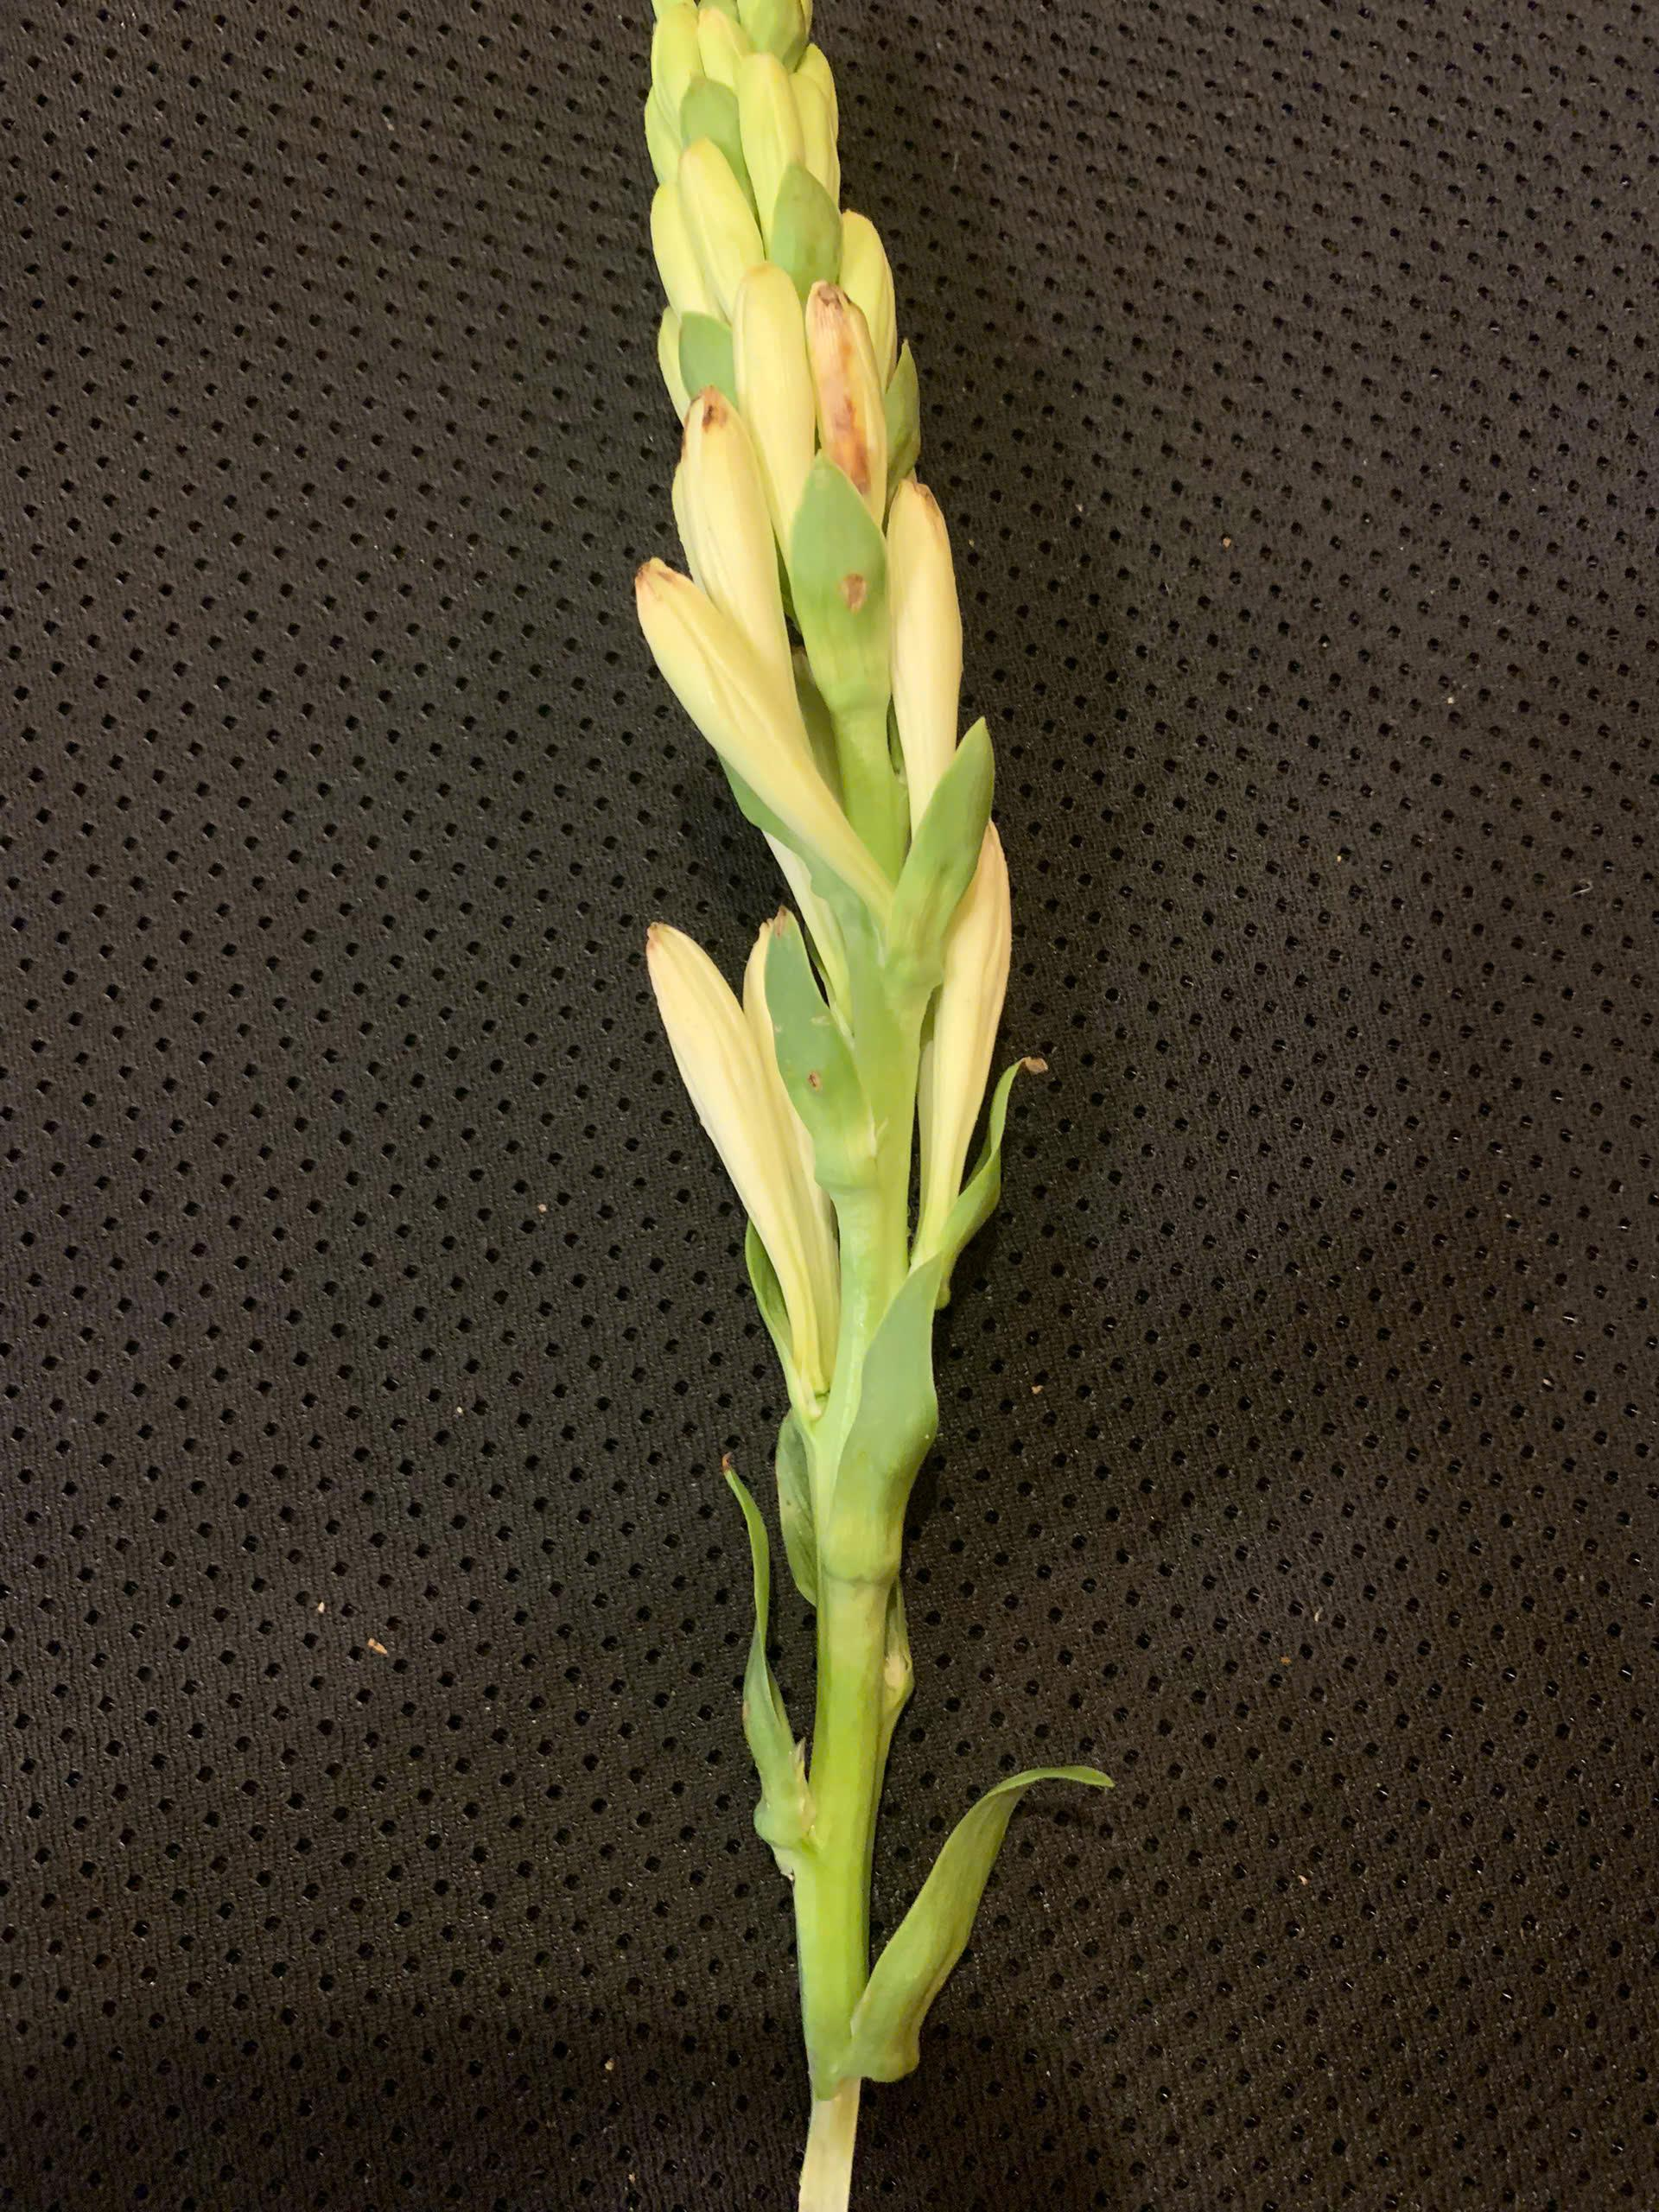Huu co: (648, 9, 1121, 2212)
